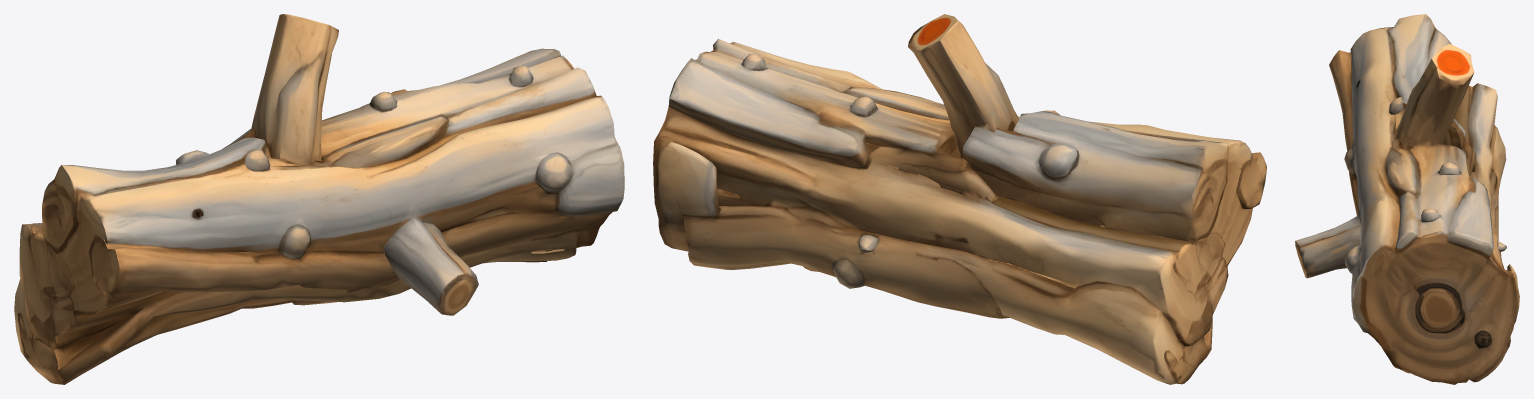
The model's file is driftwood_log.glb.
3 views of the same model, side by side, from view 1: azimuth 30°, elevation 25°; view 2: azimuth 150°, elevation 25°; view 3: azimuth 270°, elevation 25° (orthographic). The views are drawn at different scales.
Visible parts, largest first — view 1: world; view 2: world; view 3: world.
Part boxes in pixels (x1,y1,x2,y2): world: (14, 14, 624, 384); world: (653, 14, 1266, 384); world: (1295, 14, 1519, 384).
Bounding box in the file's own units: 0.9988 × 0.5682 × 0.4618.
Materials: 1 (1 with a texture image).
